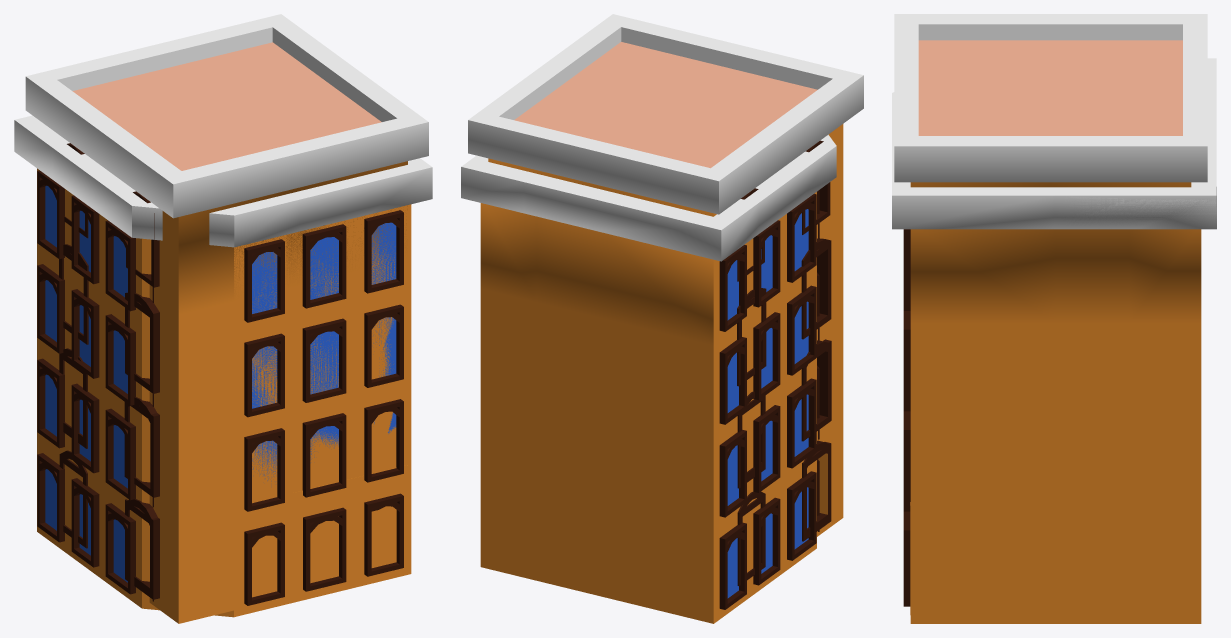
File: buildings 1.FBX
3 views of the same model, side by side, from view 1: azimuth 30°, elevation 25°; view 2: azimuth 150°, elevation 25°; view 3: azimuth 270°, elevation 25° (orthographic). The views are drawn at different scales.
Parts seen in each view (by area): view 1: Box003, Box002, Box005, Box004; view 2: Box002, Box003, Box005, Box004; view 3: Box002, Box003, Box004, Box005.
Boxes of the visible parts, x1=… form: Box003: x1=25, y1=14, x2=428, y2=623; Box002: x1=14, y1=115, x2=432, y2=617; Box005: x1=37, y1=179, x2=411, y2=616; Box004: x1=31, y1=15, x2=428, y2=622; Box002: x1=461, y1=134, x2=836, y2=623; Box003: x1=468, y1=14, x2=863, y2=585; Box005: x1=480, y1=195, x2=819, y2=608; Box004: x1=475, y1=15, x2=863, y2=584; Box002: x1=892, y1=58, x2=1216, y2=623; Box003: x1=894, y1=14, x2=1207, y2=614; Box004: x1=895, y1=15, x2=1206, y2=187; Box005: x1=903, y1=196, x2=1216, y2=623.
Size of the model in its own units: 87.78 by 144 by 87.8.
